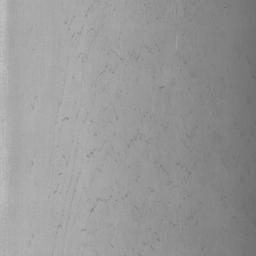Silk spot: (127, 129, 143, 148)
